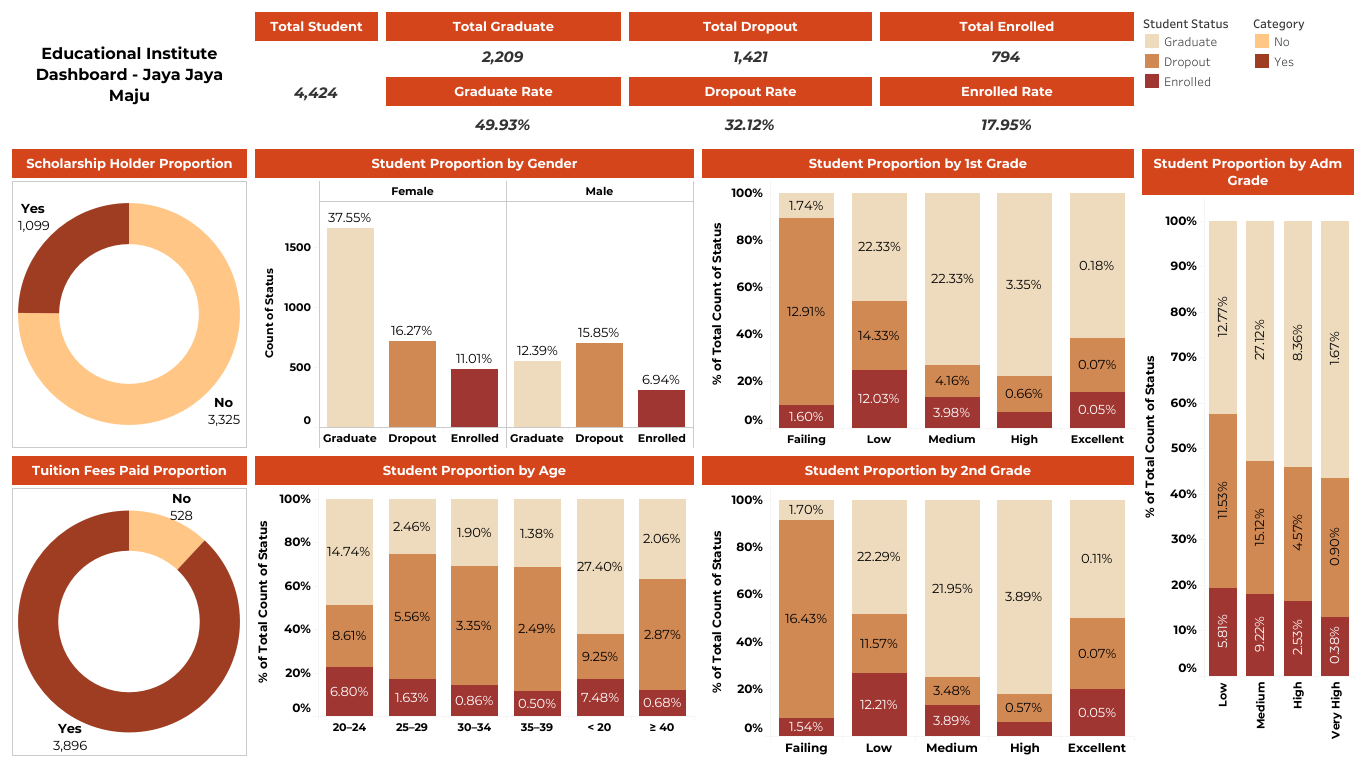

This screenshot's page, from the dashboard's own definition file:
{"tool":"tableau","page":{"name":"Dashboard","canvas":[1366,768],"ordinal":0},"visuals":[{"type":"text","box":[8,8,243,132]},{"type":"worksheet","title":"Total Student","mark":"Automatic","box":[251,8,130.7,137]},{"type":"worksheet","title":"Total Graduate","mark":"Automatic","box":[381.8,8,243.2,65.3]},{"type":"worksheet","title":"Total Dropout","mark":"Automatic","box":[625,8,251,65.3]},{"type":"worksheet","title":"Total Enrolled","mark":"Automatic","box":[876,8,262,65.3]},{"type":"legend","title":"Student Proportion by Gender","param":"[federated.1isxsza1w2hgp11680v6q062njfp].[none:Status:nk]","box":[1138,8,110,137]},{"type":"legend","title":"Tuition Fees Paid Proportion","param":"[federated.1isxsza1w2hgp11680v6q062njfp].[none:Tuition_fees_up_to_date:nk]","box":[1248,8,110,137]},{"type":"worksheet","title":"Graduate Rate","mark":"Automatic","box":[381.8,73.3,243.2,71.7]},{"type":"worksheet","title":"Dropout Rate","mark":"Automatic","box":[625,73.3,251,71.7]},{"type":"worksheet","title":"Enrolled Rate","mark":"Automatic","box":[876,73.3,262,71.7]},{"type":"worksheet","title":"Scholarship Holder Proportion","mark":"Pie","rows":["Calculation_785315201066856454","Calculation_785315201066856454"],"box":[8,145,243,307.5]},{"type":"worksheet","title":"Student Proportion by Gender","mark":"Automatic","rows":["Status"],"cols":["Gender","Status"],"box":[251,145,447,307.5]},{"type":"worksheet","title":"Student Proportion by 1st Grade","mark":"Automatic","cols":["Calculation_785315201079488521"],"box":[698,145,440,307.5]},{"type":"worksheet","title":"Student Proportion by Adm Grade","mark":"Automatic","cols":["Calculation_785315201079648267"],"box":[1138,145,220,615]},{"type":"worksheet","title":"Tuition Fees Paid Proportion","mark":"Pie","rows":["Calculation_785315201066856454","Calculation_785315201066856454"],"box":[8,452.5,243,307.5]},{"type":"worksheet","title":"Student Proportion by Age","mark":"Automatic","cols":["Calculation_785315201079398408"],"box":[251,452.5,447,307.5]},{"type":"worksheet","title":"Student Proportion by 2nd Grade","mark":"Automatic","cols":["Calculation_785315201079570442"],"box":[698,452.5,440,307.5]}]}

Visuals, with their boxes in screenshot pixels (x1, y1, x2, y2), scaled from the page's 1366x768 canvas onto the 1365x767 screenshot:
text: [x1=8, y1=8, x2=251, y2=140]
"Total Student" worksheet: [x1=251, y1=8, x2=381, y2=145]
"Total Graduate" worksheet: [x1=382, y1=8, x2=625, y2=73]
"Total Dropout" worksheet: [x1=625, y1=8, x2=875, y2=73]
"Total Enrolled" worksheet: [x1=875, y1=8, x2=1137, y2=73]
"Student Proportion by Gender" legend: [x1=1137, y1=8, x2=1247, y2=145]
"Tuition Fees Paid Proportion" legend: [x1=1247, y1=8, x2=1357, y2=145]
"Graduate Rate" worksheet: [x1=382, y1=73, x2=625, y2=145]
"Dropout Rate" worksheet: [x1=625, y1=73, x2=875, y2=145]
"Enrolled Rate" worksheet: [x1=875, y1=73, x2=1137, y2=145]
"Scholarship Holder Proportion" worksheet (Pie marks): [x1=8, y1=145, x2=251, y2=452]
"Student Proportion by Gender" worksheet: [x1=251, y1=145, x2=697, y2=452]
"Student Proportion by 1st Grade" worksheet: [x1=697, y1=145, x2=1137, y2=452]
"Student Proportion by Adm Grade" worksheet: [x1=1137, y1=145, x2=1357, y2=759]
"Tuition Fees Paid Proportion" worksheet (Pie marks): [x1=8, y1=452, x2=251, y2=759]
"Student Proportion by Age" worksheet: [x1=251, y1=452, x2=697, y2=759]
"Student Proportion by 2nd Grade" worksheet: [x1=697, y1=452, x2=1137, y2=759]
